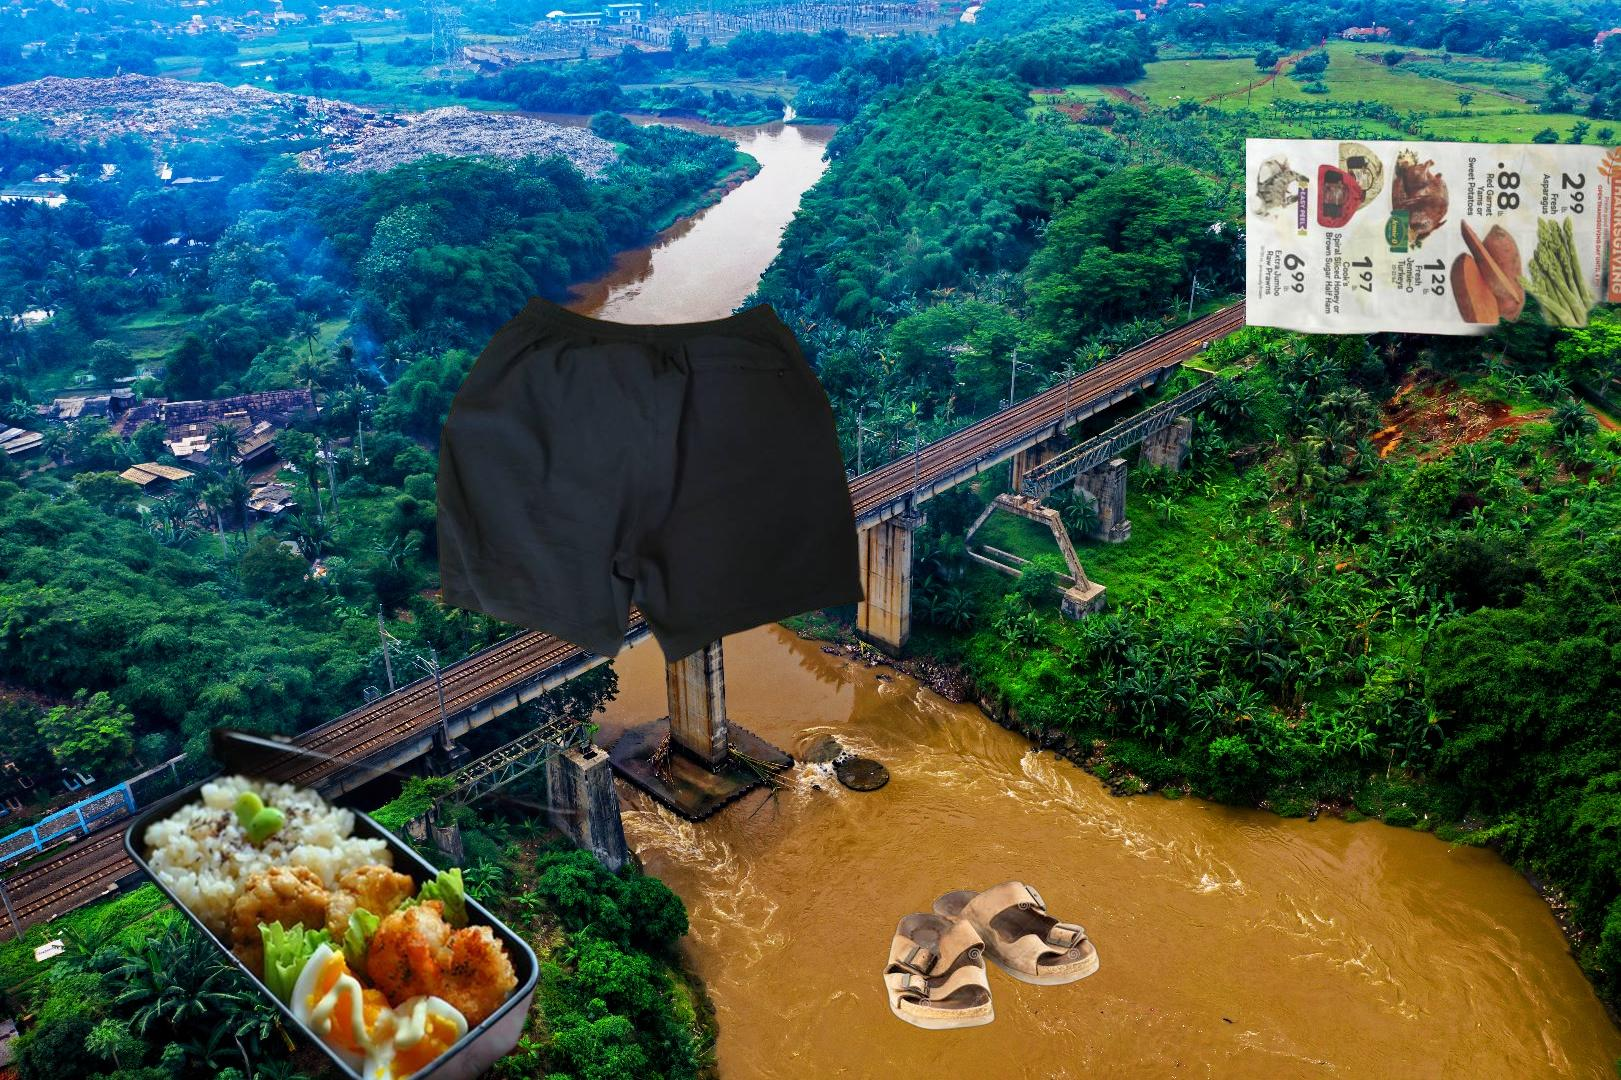biological: (118, 710, 604, 1080)
clothes: (430, 293, 871, 667)
paper: (1246, 133, 1621, 394)
shoes: (880, 877, 1102, 1033)
